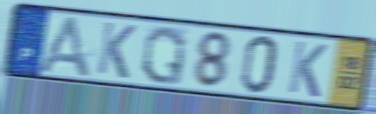0: (238, 33, 281, 96)
8: (192, 30, 234, 90)
A: (34, 14, 95, 80)
K: (285, 38, 330, 100), (94, 19, 138, 81)
Q: (139, 23, 188, 87)
